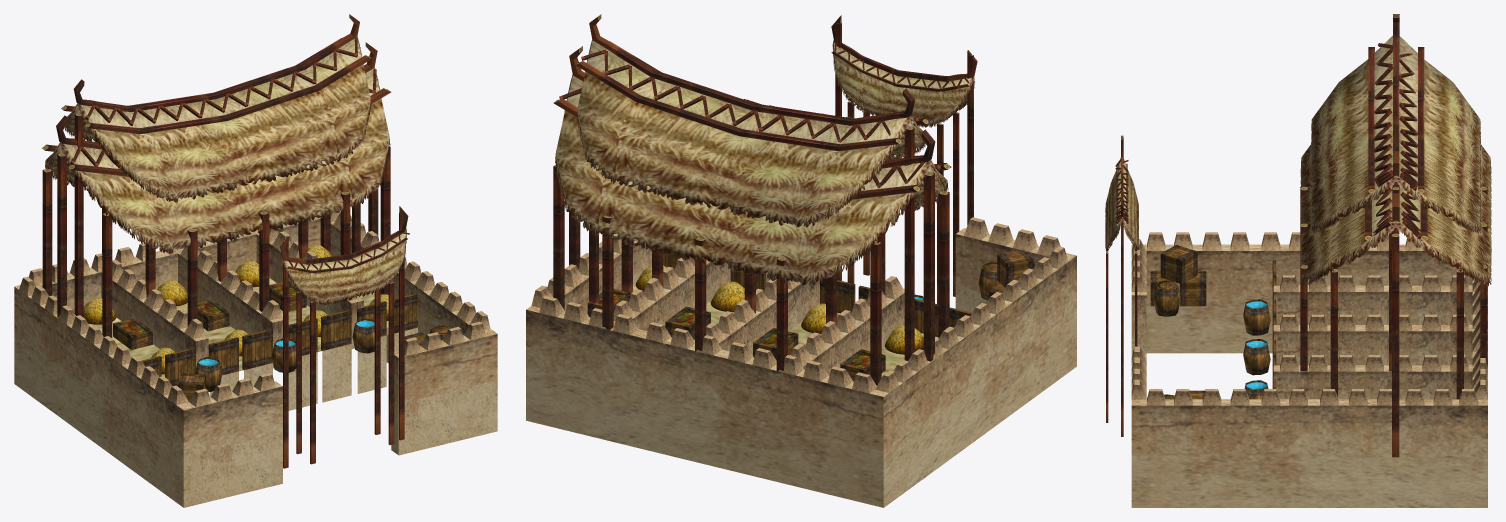
Rendered from stable_elephant.dae.
The picture shows the model from 3 angles, left to right: view 1: azimuth 30°, elevation 25°; view 2: azimuth 150°, elevation 25°; view 3: azimuth 270°, elevation 25°; orthographic projection. The views are drawn at different scales.
Visible parts, largest first — view 1: stable_elephant; view 2: stable_elephant; view 3: stable_elephant.
Boxes of the visible parts, bbox=[...] form: stable_elephant: bbox=[14, 14, 497, 507]; stable_elephant: bbox=[526, 14, 1076, 507]; stable_elephant: bbox=[1105, 14, 1491, 507].
Size of the model in its own units: 25.54 by 25.35 by 25.05.
